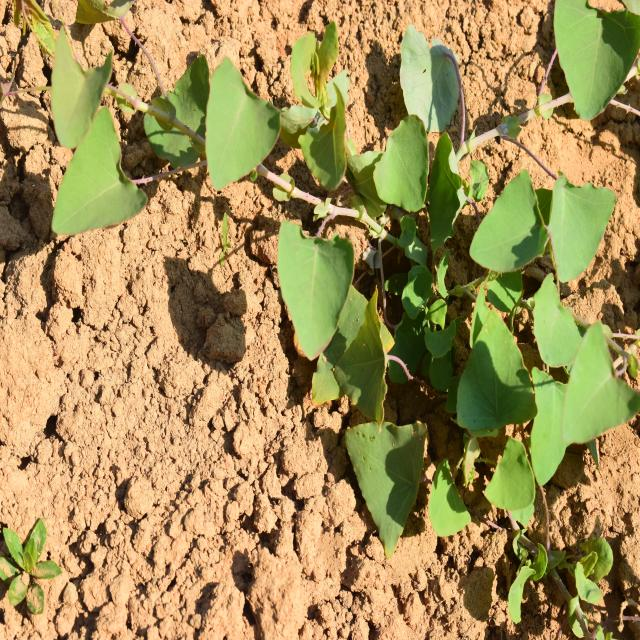Asiatic_Smartweed: (186, 32, 442, 215), (440, 269, 626, 487), (270, 221, 411, 407), (35, 35, 159, 244), (475, 160, 621, 302), (542, 0, 640, 127)
